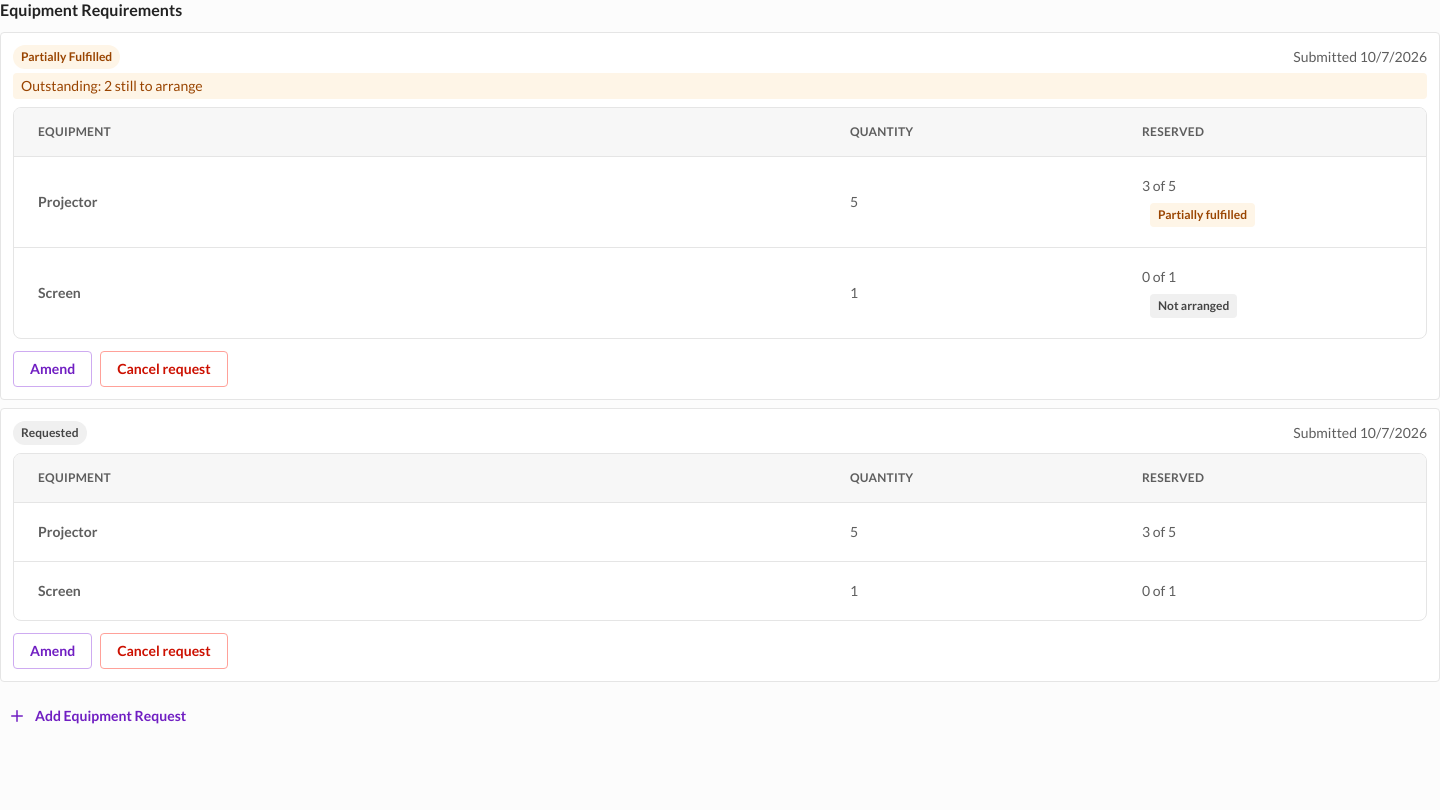
Test case: EquipmentRequestPanel — cancel (E5-2 AC3) › cancels once confirmed: the card turns Cancelled and moves below the active requests
Click the button "Cancel request" below "Outstanding: 2 still to arrange" at (164, 369), box [100,351,228,387]
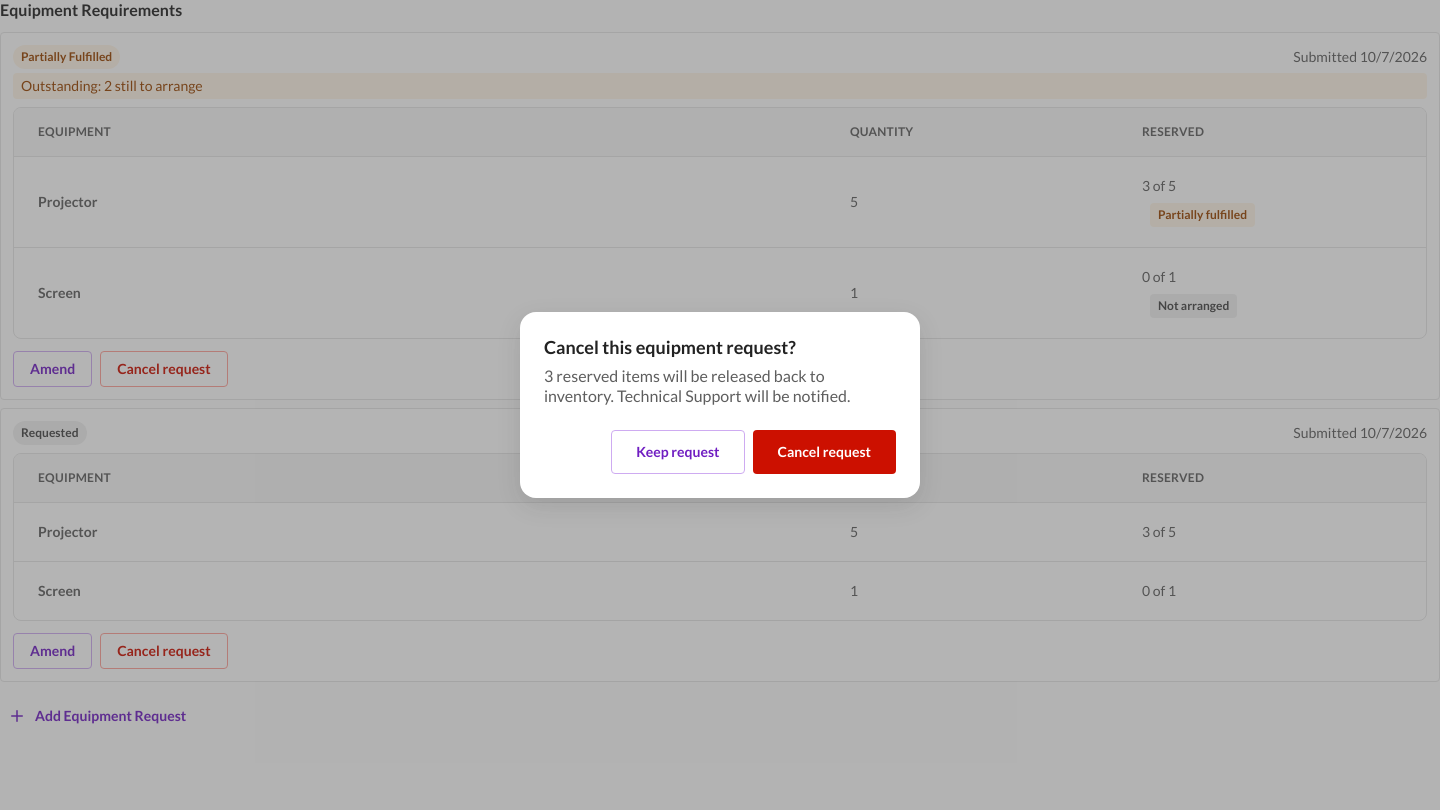
Click the button with test id "confirm-cancel" at (824, 452), box [752,430,896,474]
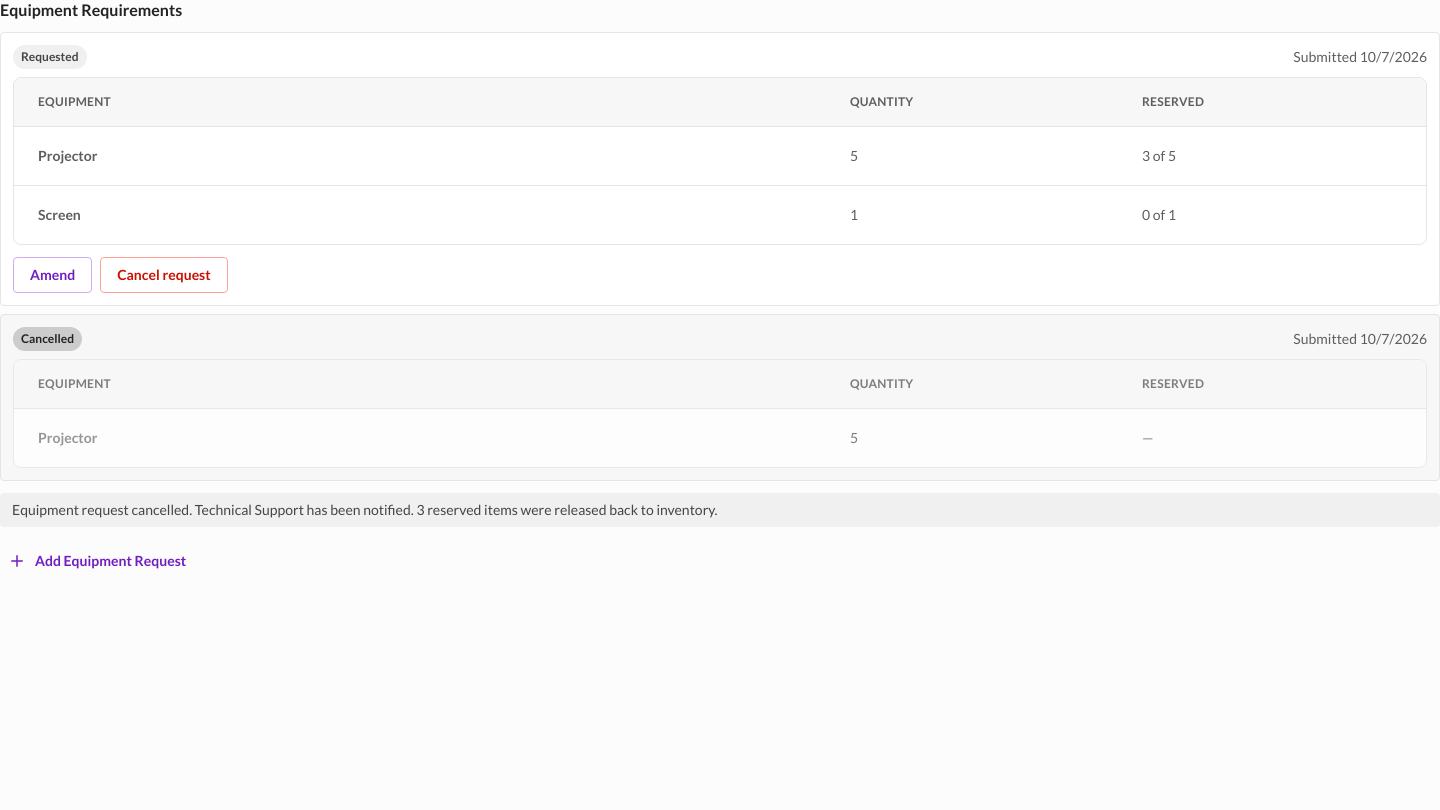
Result: the message shows "Equipment request cancelled. Technical Support has been notified. 3 reserved items were released back to inventory." at [12,501,718,518]
